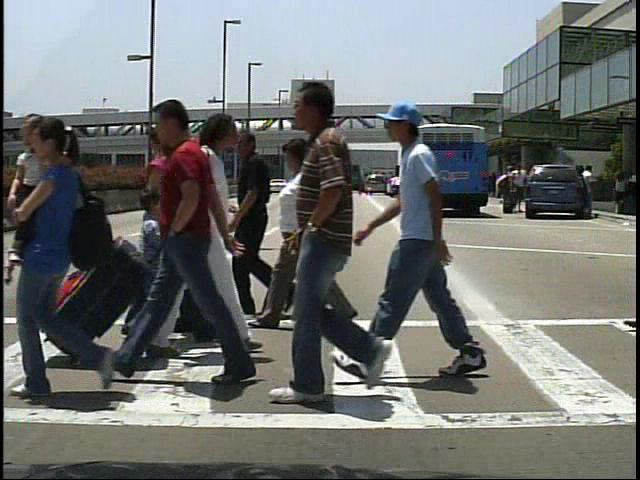person: (271, 84, 410, 425), (141, 91, 242, 388), (133, 109, 246, 365), (387, 103, 479, 382), (133, 123, 223, 344), (264, 135, 345, 332), (224, 123, 297, 323), (142, 119, 199, 362), (134, 190, 176, 324), (582, 165, 602, 218), (498, 166, 516, 219), (512, 165, 529, 215)
